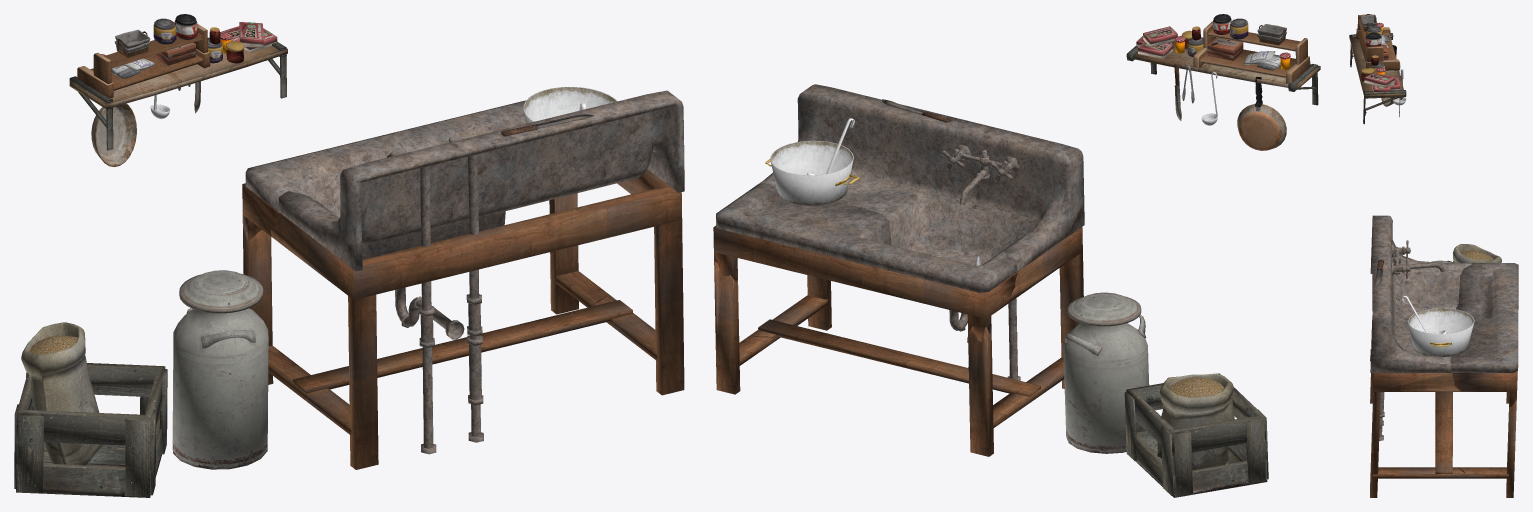
The model's file is Kitchen ware.glb.
3 views of the same model, side by side, from view 1: azimuth 30°, elevation 25°; view 2: azimuth 150°, elevation 25°; view 3: azimuth 270°, elevation 25° (orthographic). The views are drawn at different scales.
Visible parts, largest first — view 1: mesh_645, mesh_645.001, mesh_633, mesh_629, mesh_644.001, mesh_129, mesh_628, mesh_191, mesh_127, mesh_150, mesh_336, mesh_644; view 2: mesh_645.001, mesh_645, mesh_644.001, mesh_633, mesh_629, mesh_644, mesh_150, mesh_129, mesh_191, mesh_628, mesh_336, mesh_127; view 3: mesh_645.001, mesh_645, mesh_644.001, mesh_150, mesh_644, mesh_628, mesh_191, mesh_129, mesh_262, mesh_238.
Boxes of the visible parts, <box> form: mesh_645: <box>243,169,684,469</box>; mesh_645.001: <box>278,90,684,454</box>; mesh_633: <box>14,363,167,497</box>; mesh_629: <box>172,308,268,469</box>; mesh_644.001: <box>245,100,526,339</box>; mesh_129: <box>21,322,102,465</box>; mesh_628: <box>69,41,287,150</box>; mesh_191: <box>77,24,210,97</box>; mesh_127: <box>179,270,263,313</box>; mesh_150: <box>523,87,617,123</box>; mesh_336: <box>91,103,136,166</box>; mesh_644: <box>242,183,279,242</box>; mesh_645.001: <box>758,84,1084,380</box>; mesh_645: <box>714,227,1083,456</box>; mesh_644.001: <box>716,183,1017,331</box>; mesh_633: <box>1124,373,1268,497</box>; mesh_629: <box>1063,314,1149,453</box>; mesh_644: <box>713,225,1017,342</box>; mesh_150: <box>765,140,859,205</box>; mesh_129: <box>1157,373,1234,469</box>; mesh_191: <box>1193,21,1310,83</box>; mesh_628: <box>1126,41,1320,105</box>; mesh_336: <box>1237,77,1286,150</box>; mesh_127: <box>1067,292,1141,326</box>; mesh_645.001: <box>1370,215,1472,440</box>; mesh_645: <box>1370,373,1516,497</box>; mesh_644.001: <box>1370,263,1518,372</box>; mesh_150: <box>1408,308,1474,356</box>; mesh_644: <box>1452,371,1517,406</box>; mesh_628: <box>1349,33,1406,124</box>; mesh_191: <box>1356,14,1399,70</box>; mesh_129: <box>1453,244,1501,262</box>; mesh_262: <box>1364,72,1394,87</box>; mesh_238: <box>1365,32,1381,46</box>.
Size of the model in its own units: 4.02 by 3.12 by 1.53.
20 materials, 19 textured.
